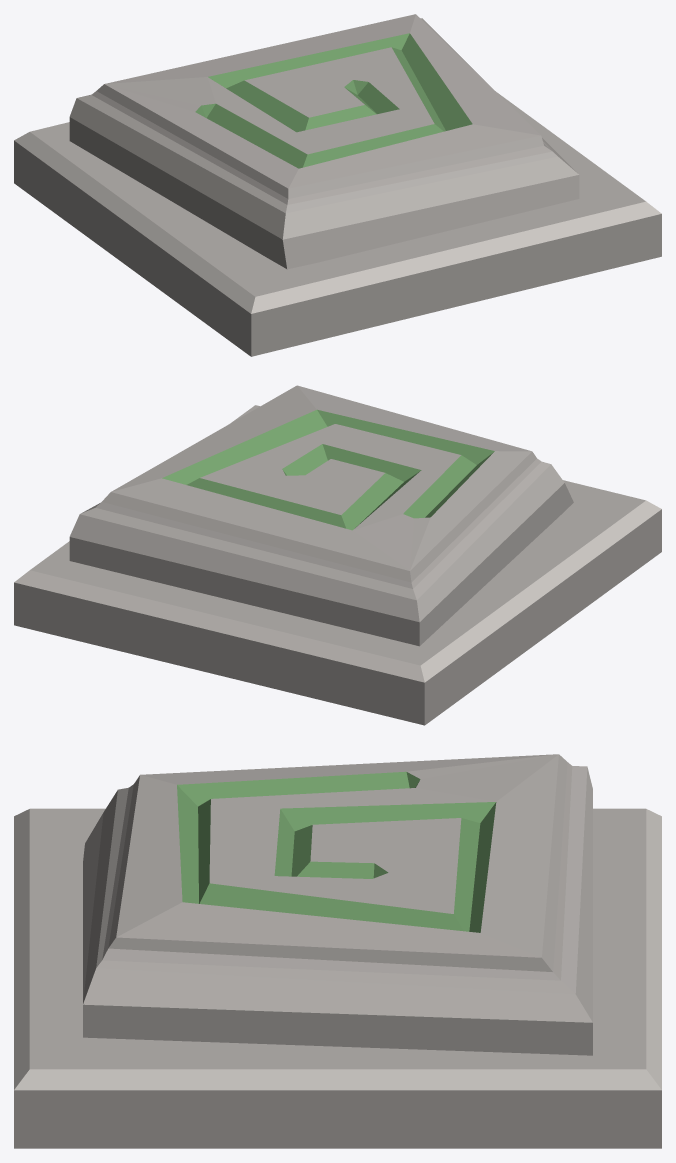
The model's file is ER_Asset_EarthSwitch.fbx.
The picture shows the model from 3 angles, top to bottom: view 1: azimuth 30°, elevation 25°; view 2: azimuth 150°, elevation 25°; view 3: azimuth 270°, elevation 25°; orthographic projection. The views are drawn at different scales.
Visible parts, largest first — view 1: polySurface495, polySurface496; view 2: polySurface495, polySurface496; view 3: polySurface495, polySurface496.
Boxes of the visible parts, x1,y1,x2,y2 form: polySurface495: [69, 14, 579, 269]; polySurface496: [14, 92, 661, 356]; polySurface495: [69, 385, 573, 646]; polySurface496: [14, 405, 661, 725]; polySurface495: [83, 754, 592, 1055]; polySurface496: [14, 808, 661, 1148].
Size of the model in its own units: 1 by 0.2752 by 1.
